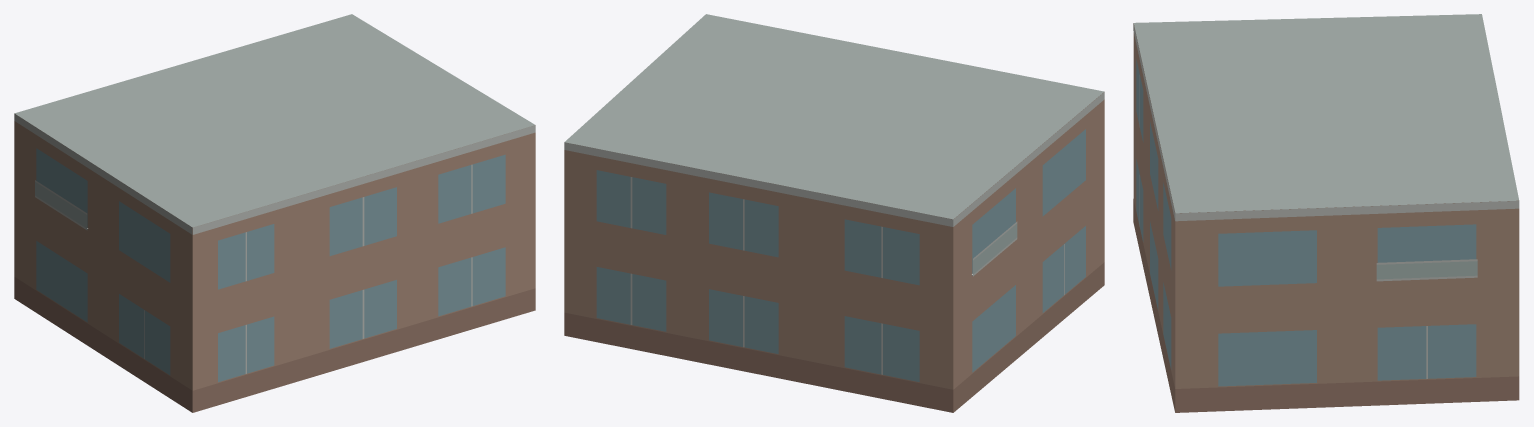
File: survey-upis-32703189.glb
The picture shows the model from 3 angles, left to right: view 1: azimuth 30°, elevation 25°; view 2: azimuth 150°, elevation 25°; view 3: azimuth 270°, elevation 25°; orthographic projection. The views are drawn at different scales.
Parts seen in each view (by area): view 1: survey-upis-32703189.tmp; view 2: survey-upis-32703189.tmp; view 3: survey-upis-32703189.tmp.
Boxes of the visible parts, bbox=[...] form: survey-upis-32703189.tmp: bbox=[14, 14, 535, 412]; survey-upis-32703189.tmp: bbox=[564, 14, 1104, 412]; survey-upis-32703189.tmp: bbox=[1133, 14, 1519, 412].
Bounding box in the file's own units: 13.07 × 6.1 × 10.69.
